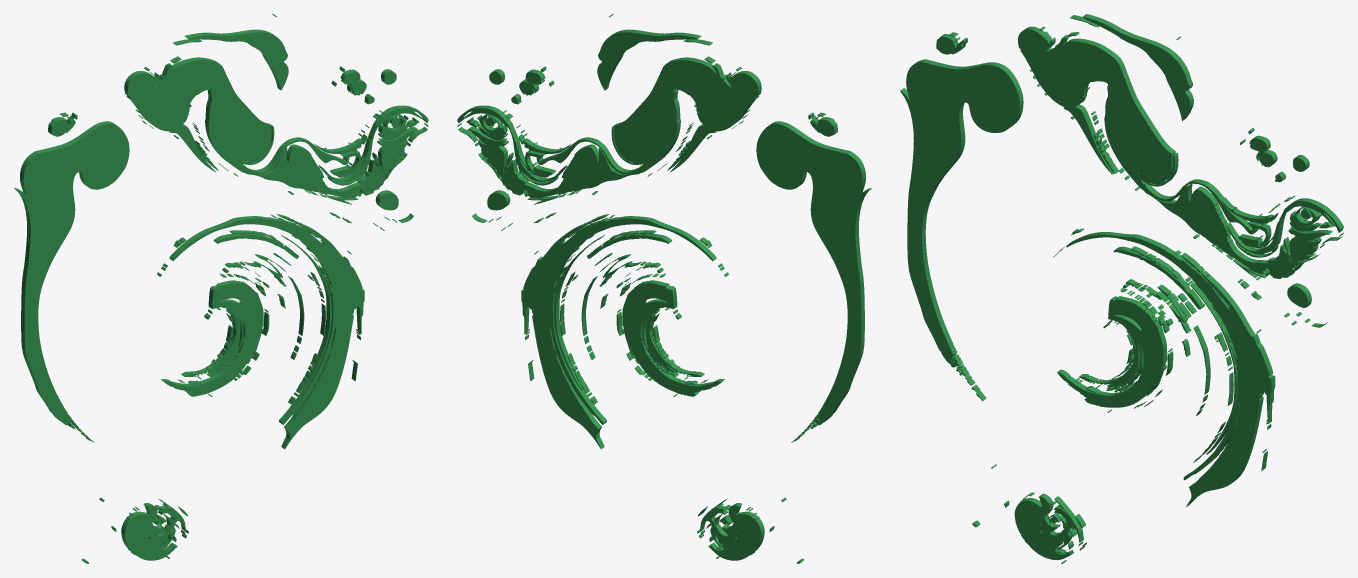
Rendered from tinker.obj.
3 views of the same model, side by side, from view 1: azimuth 30°, elevation 25°; view 2: azimuth 150°, elevation 25°; view 3: azimuth 330°, elevation 25° (orthographic). The views are drawn at different scales.
Parts seen in each view (by area): view 1: obj_0; view 2: obj_0; view 3: obj_0.
Part boxes in pixels (bbox=[...]): obj_0: bbox=[14, 14, 428, 563]; obj_0: bbox=[457, 14, 871, 563]; obj_0: bbox=[900, 14, 1343, 563].
Bounding box in the file's own units: 666 × 799 × 10.
